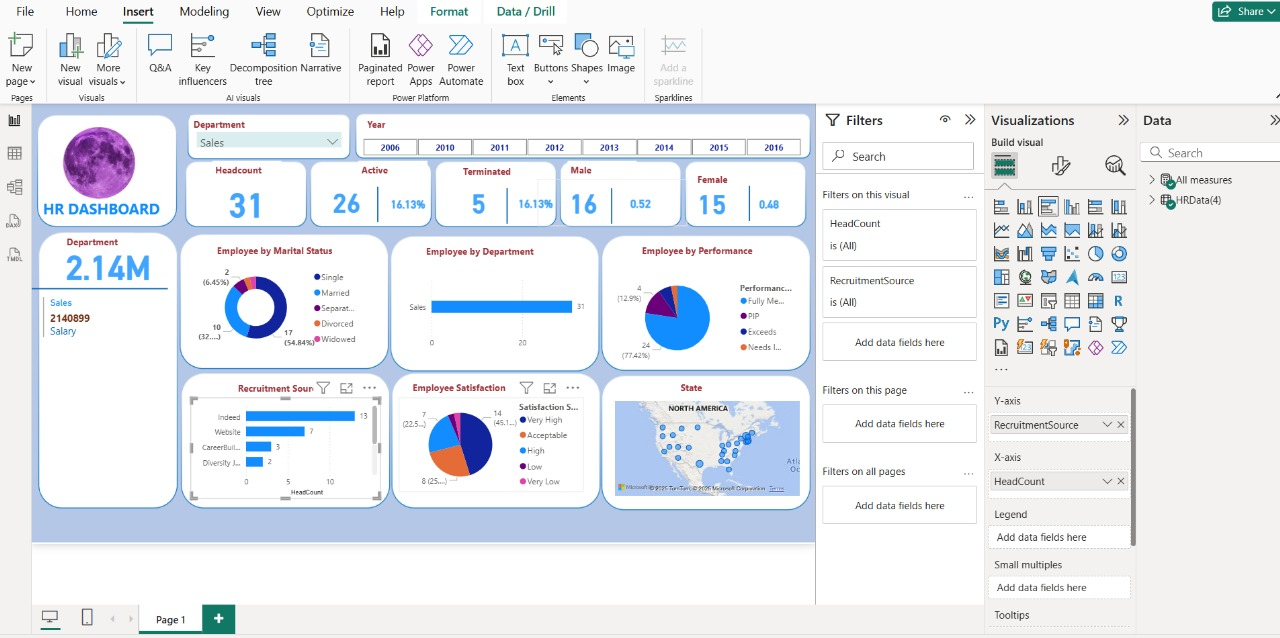

What the dashboard file says about the page in this screenshot:
{"tool":"powerbi","page":{"name":"Page 1","canvas":[1280,720],"ordinal":0},"visuals":[{"type":"card","fields":{"Values":["All measures.Terminated"]},"box":[654.5,123.5,150.9,72.7],"z":0,"group":"g2"},{"type":"card","fields":{"Values":["All measures.Male"]},"box":[826.1,123.5,150.9,72.7],"z":0,"group":"g3"},{"type":"card","fields":{"Values":["All measures.Female"]},"box":[1036,124.9,150.9,72.7],"z":0,"group":"g4"},{"type":"textbox","box":[13.7,150.9,222.3,45.3],"z":0},{"type":"textbox","box":[259.3,19.2,112.5,31.6],"z":1000},{"type":"card","fields":{"Values":["All measures.Terminate %"]},"box":[747.8,127.6,150.9,72.7],"z":1000,"group":"g2"},{"type":"card","fields":{"Values":["All measures.Male %"]},"box":[919.4,127.6,150.9,72.7],"z":1000,"group":"g3"},{"type":"card","fields":{"Values":["All measures.Female  %"]},"box":[1129.3,129,150.9,72.7],"z":1000,"group":"g4"},{"type":"slicer","fields":{"Values":["HRData(4).Department"]},"box":[259.3,35.7,256.6,35.7],"z":2000},{"type":"slicer","fields":{"Values":["HRData(4).Hiring Year"]},"box":[516,50.8,764.3,38.4],"z":3000},{"type":"textbox","box":[543.4,19.2,130.4,31.6],"z":4000},{"type":"textbox","box":[295,93.3,112.5,31.6],"z":5000},{"type":"textbox","box":[533.8,93.3,112.5,31.6],"z":6000},{"type":"textbox","box":[52.1,211.3,112.5,31.6],"z":7000},{"type":"textbox","box":[297.8,225,258,32.9],"z":8000},{"type":"textbox","box":[332.1,450.1,170.2,31.6],"z":9000},{"type":"textbox","box":[639.5,226.4,196.2,31.6],"z":10000},{"type":"textbox","box":[617.5,448.7,188,31.6],"z":11000},{"type":"textbox","box":[699.8,96.1,112.5,31.6],"z":12000},{"type":"textbox","box":[875.5,93.3,112.5,31.6],"z":13000},{"type":"textbox","box":[1082.7,108.4,112.5,31.6],"z":14000},{"type":"textbox","box":[992.1,225,237.4,31.6],"z":15000},{"type":"textbox","box":[1055.2,448.7,112.5,31.6],"z":16000},{"type":"card","fields":{"Values":["All measures.HeadCount"]},"box":[275.8,123.5,150.9,72.7],"z":17000},{"type":"shape","box":[767.1,138.6,19.2,57.6],"z":18000},{"type":"group","id":"g1","title":"Group 1","box":[439.1,122.1,251.1,79.6],"z":19000},{"type":"card","fields":{"Values":["All measures.Active"]},"box":[439.1,122.1,150.9,72.7],"z":19000,"group":"g1"},{"type":"group","id":"g2","title":"Group 1","box":[654.5,123.5,244.3,76.8],"z":20000},{"type":"card","fields":{"Values":["All measures.Active %"]},"box":[538.7,128.4,150.9,72.7],"z":20000,"group":"g1"},{"type":"group","id":"g3","title":"Group 1","box":[826.1,123.5,244.3,76.8],"z":21000},{"type":"group","id":"g4","title":"Group 1","box":[1036,124.9,244.3,76.8],"z":22000},{"type":"donutChart","fields":{"Y":["All measures.HeadCount"],"Category":["HRData(4).MaritalStatus"]},"box":[267.6,258,278.6,150.9],"z":23000},{"type":"clusteredBarChart","fields":{"Y":["All measures.HeadCount"],"Category":["HRData(4).Department"]},"box":[609.3,273.1,310.1,135.8],"z":24000},{"type":"pieChart","fields":{"Y":["All measures.HeadCount"],"Category":["HRData(4).PerformanceScore"]},"box":[948.2,273.1,301.9,155.1],"z":25000},{"type":"clusteredBarChart","fields":{"Y":["All measures.HeadCount"],"Category":["HRData(4).RecruitmentSource"]},"box":[259.3,480.3,310.1,166],"z":26000},{"type":"pieChart","fields":{"Y":["All measures.HeadCount"],"Category":["HRData(4).Satisfaction Status"]},"box":[599.7,480.3,301.9,155.1],"z":27000},{"type":"map","fields":{"Size":["All measures.HeadCount"],"Category":["HRData(4).State"]},"box":[948.2,481.6,311.5,164.7],"z":28000},{"type":"card","fields":{"Values":["All measures.Salary"]},"box":[13.7,225,222.3,72.7],"z":29000},{"type":"shape","box":[0,227.8,222.3,149.6],"z":30000},{"type":"multiRowCard","fields":{"Values":["All measures.Salary","HRData(4).Department"]},"box":[13.7,311.5,208.6,323.8],"z":31000},{"type":"image","box":[45.3,32.9,133.1,129],"z":31001},{"type":"shape","box":[555.7,135.8,19.2,57.6],"z":31002},{"type":"shape","box":[933.1,138.6,28.8,57.6],"z":31003},{"type":"shape","box":[1158.2,134.5,28.8,57.6],"z":31004}]}

Visuals, with their boxes on the page's 1280x720 design canvas (x1, y1, x2, y2). These are canvas units, not pixel positions in the 1280x638 screenshot, which may show the page scaled, cropped or inside an application window:
card - All measures.Terminated: detection(654, 124, 805, 196)
card - All measures.Male: detection(826, 124, 977, 196)
card - All measures.Female: detection(1036, 125, 1187, 198)
textbox: detection(14, 151, 236, 196)
textbox: detection(259, 19, 372, 51)
card - All measures.Terminate %: detection(748, 128, 899, 200)
card - All measures.Male %: detection(919, 128, 1070, 200)
card - All measures.Female  %: detection(1129, 129, 1280, 202)
slicer - HRData(4).Department: detection(259, 36, 516, 71)
slicer - HRData(4).Hiring Year: detection(516, 51, 1280, 89)
textbox: detection(543, 19, 674, 51)
textbox: detection(295, 93, 408, 125)
textbox: detection(534, 93, 646, 125)
textbox: detection(52, 211, 165, 243)
textbox: detection(298, 225, 556, 258)
textbox: detection(332, 450, 502, 482)
textbox: detection(640, 226, 836, 258)
textbox: detection(618, 449, 806, 480)
textbox: detection(700, 96, 812, 128)
textbox: detection(876, 93, 988, 125)
textbox: detection(1083, 108, 1195, 140)
textbox: detection(992, 225, 1230, 257)
textbox: detection(1055, 449, 1168, 480)
card - All measures.HeadCount: detection(276, 124, 427, 196)
shape: detection(767, 139, 786, 196)
"Group 1" group: detection(439, 122, 690, 202)
card - All measures.Active: detection(439, 122, 590, 195)
"Group 1" group: detection(654, 124, 899, 200)
card - All measures.Active %: detection(539, 128, 690, 201)
"Group 1" group: detection(826, 124, 1070, 200)
"Group 1" group: detection(1036, 125, 1280, 202)
donutChart - All measures.HeadCount x HRData(4).MaritalStatus: detection(268, 258, 546, 409)
clusteredBarChart - All measures.HeadCount x HRData(4).Department: detection(609, 273, 919, 409)
pieChart - All measures.HeadCount x HRData(4).PerformanceScore: detection(948, 273, 1250, 428)
clusteredBarChart - All measures.HeadCount x HRData(4).RecruitmentSource: detection(259, 480, 569, 646)
pieChart - All measures.HeadCount x HRData(4).Satisfaction Status: detection(600, 480, 902, 635)
map - All measures.HeadCount x HRData(4).State: detection(948, 482, 1260, 646)
card - All measures.Salary: detection(14, 225, 236, 298)
shape: detection(0, 228, 222, 377)
multiRowCard - All measures.Salary x HRData(4).Department: detection(14, 312, 222, 635)
image: detection(45, 33, 178, 162)
shape: detection(556, 136, 575, 193)
shape: detection(933, 139, 962, 196)
shape: detection(1158, 134, 1187, 192)
